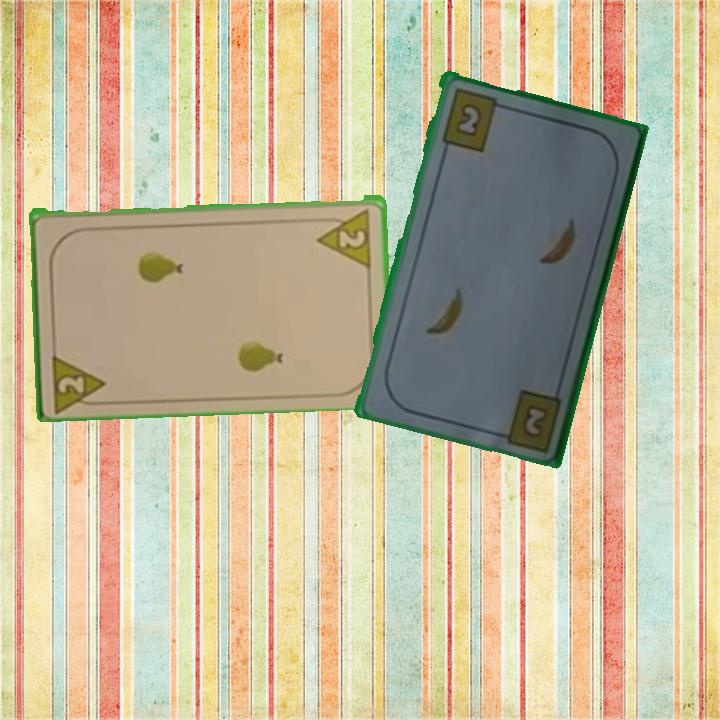2b: (438, 84, 508, 154), (521, 400, 551, 438)
2p: (48, 347, 110, 412), (314, 204, 374, 268)
